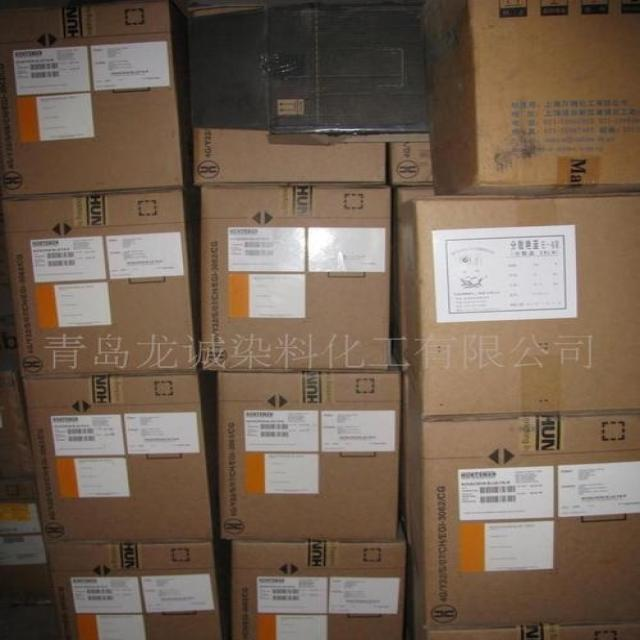box: (403, 194, 639, 418), (405, 409, 639, 630), (423, 2, 639, 194), (0, 1, 188, 198), (198, 188, 395, 370), (199, 373, 399, 539), (21, 376, 214, 545), (45, 543, 224, 639), (225, 543, 403, 638), (193, 132, 391, 185), (0, 481, 51, 608), (0, 377, 34, 482), (391, 136, 431, 183), (394, 185, 436, 204)
